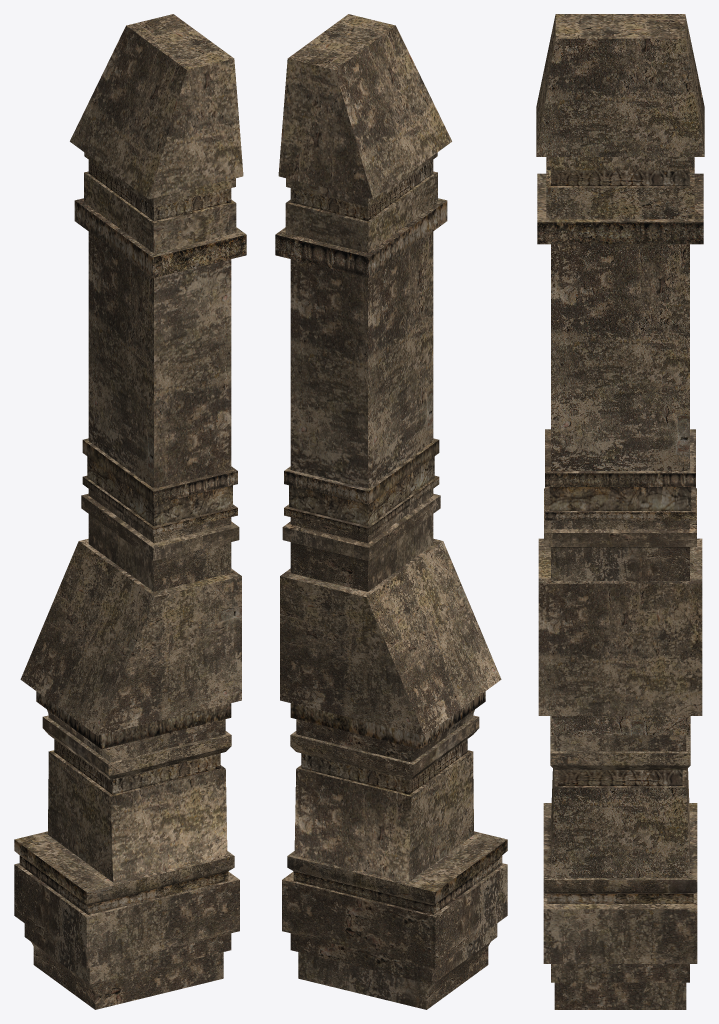
Rendered from materials_5_pillar_long_5.fbx.
3 renders of one model, left to right at view 1: azimuth 30°, elevation 25°; view 2: azimuth 150°, elevation 25°; view 3: azimuth 270°, elevation 25°, orthographic. The views are drawn at different scales.
Parts seen in each view (by area): view 1: materials_5_pillar_long_5; view 2: materials_5_pillar_long_5; view 3: materials_5_pillar_long_5.
Part boxes in pixels (x1,y1,x2,y2): materials_5_pillar_long_5: (14, 14, 246, 1009); materials_5_pillar_long_5: (275, 14, 507, 1009); materials_5_pillar_long_5: (536, 14, 704, 1009).
Size of the model in its own units: 119 by 663 by 104.
